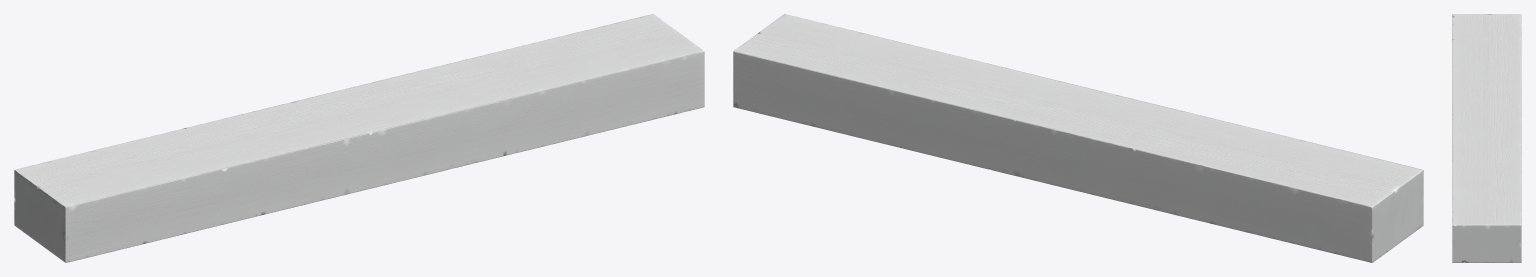
The model's file is PoutreBois.fbx.
3 views of the same model, side by side, from view 1: azimuth 30°, elevation 25°; view 2: azimuth 150°, elevation 25°; view 3: azimuth 270°, elevation 25° (orthographic). The views are drawn at different scales.
Parts seen in each view (by area): view 1: Mesh_0; view 2: Mesh_0; view 3: Mesh_0.
Boxes of the visible parts, <box> form: Mesh_0: <box>14,14,704,262</box>; Mesh_0: <box>733,14,1423,262</box>; Mesh_0: <box>1452,14,1521,262</box>.
Bounding box in the file's own units: 190 × 15.93 × 26.45.
1 material, 1 textured.
